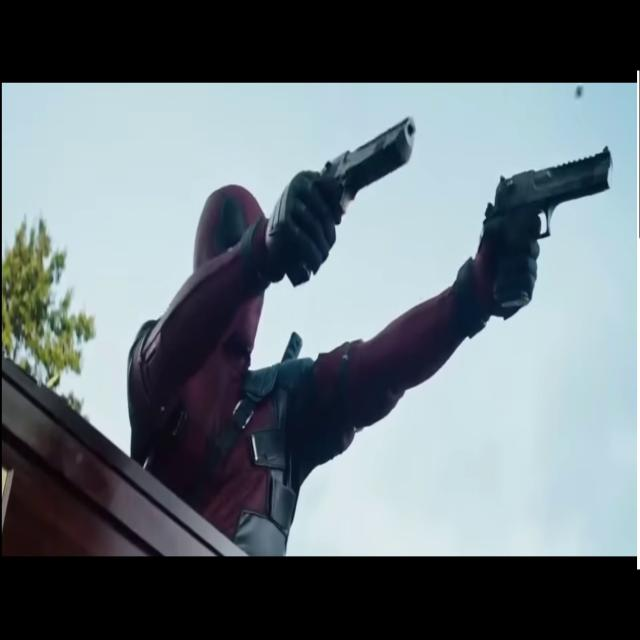weapons: (484, 129, 616, 312), (289, 101, 420, 262)
